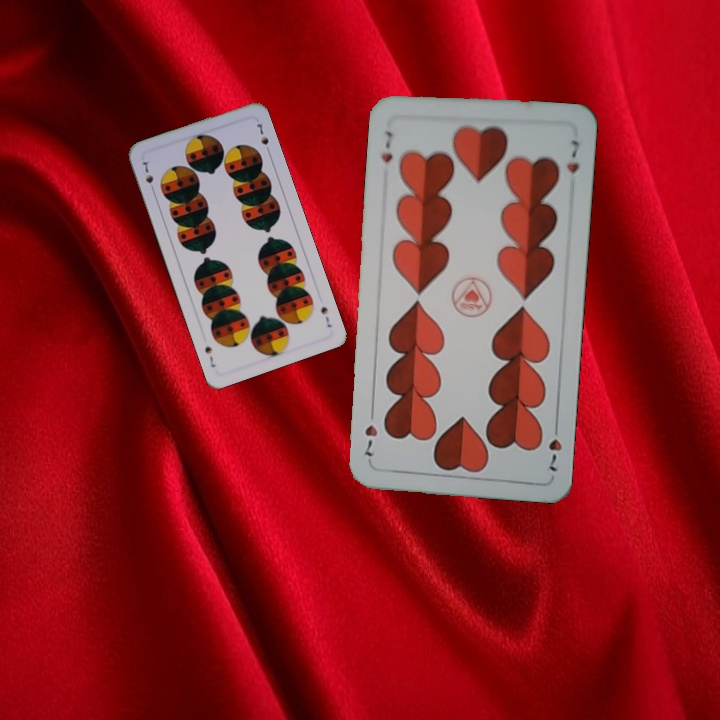H7: (544, 418, 565, 474), (377, 127, 395, 165)
S7: (138, 157, 157, 195), (317, 303, 334, 330)
